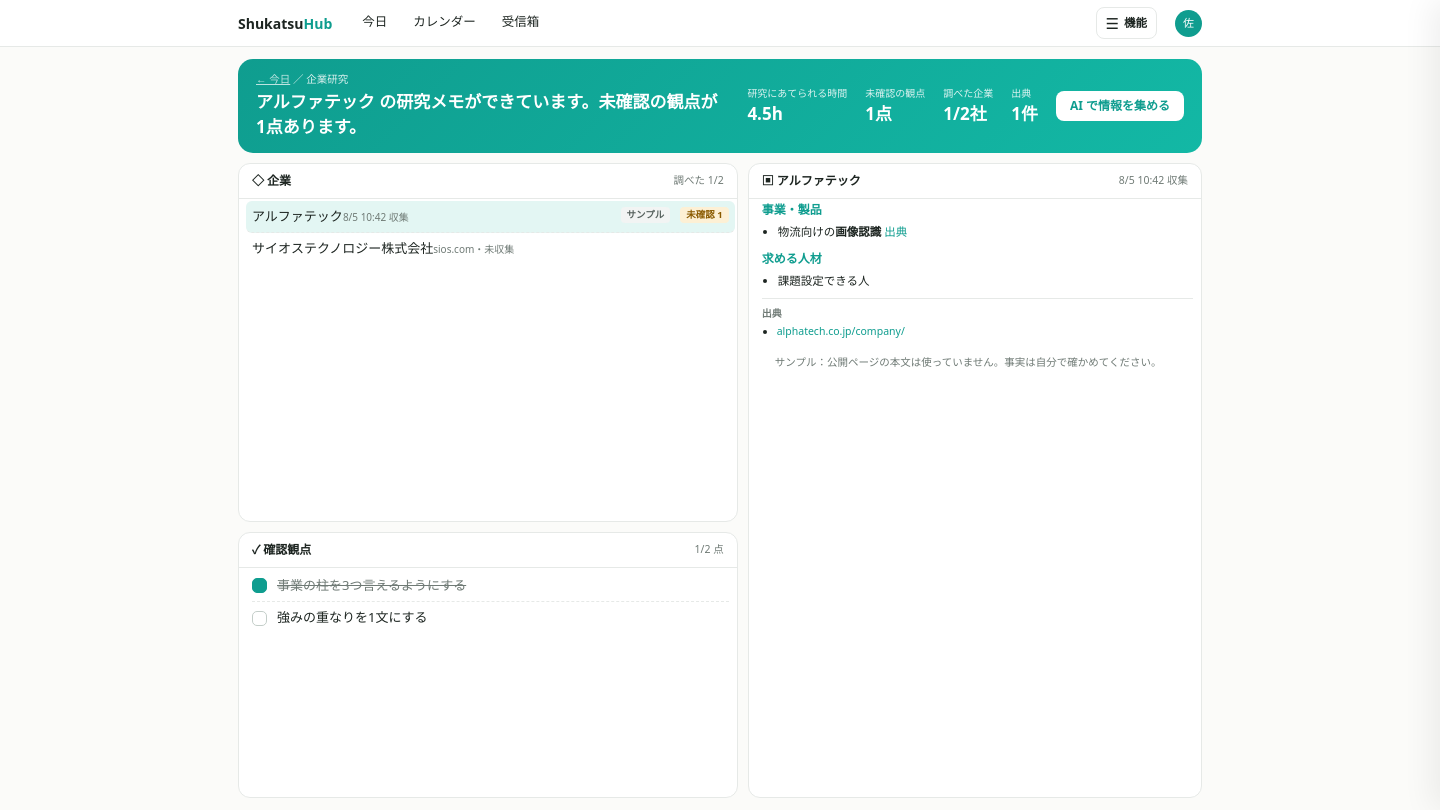
確認観点 › チェックを付けると PATCH され、残り点数が減る
Click the button named "強みの重なりを1文にする を確認済みにする" at [260, 618], box left=252, top=611, right=267, bottom=626
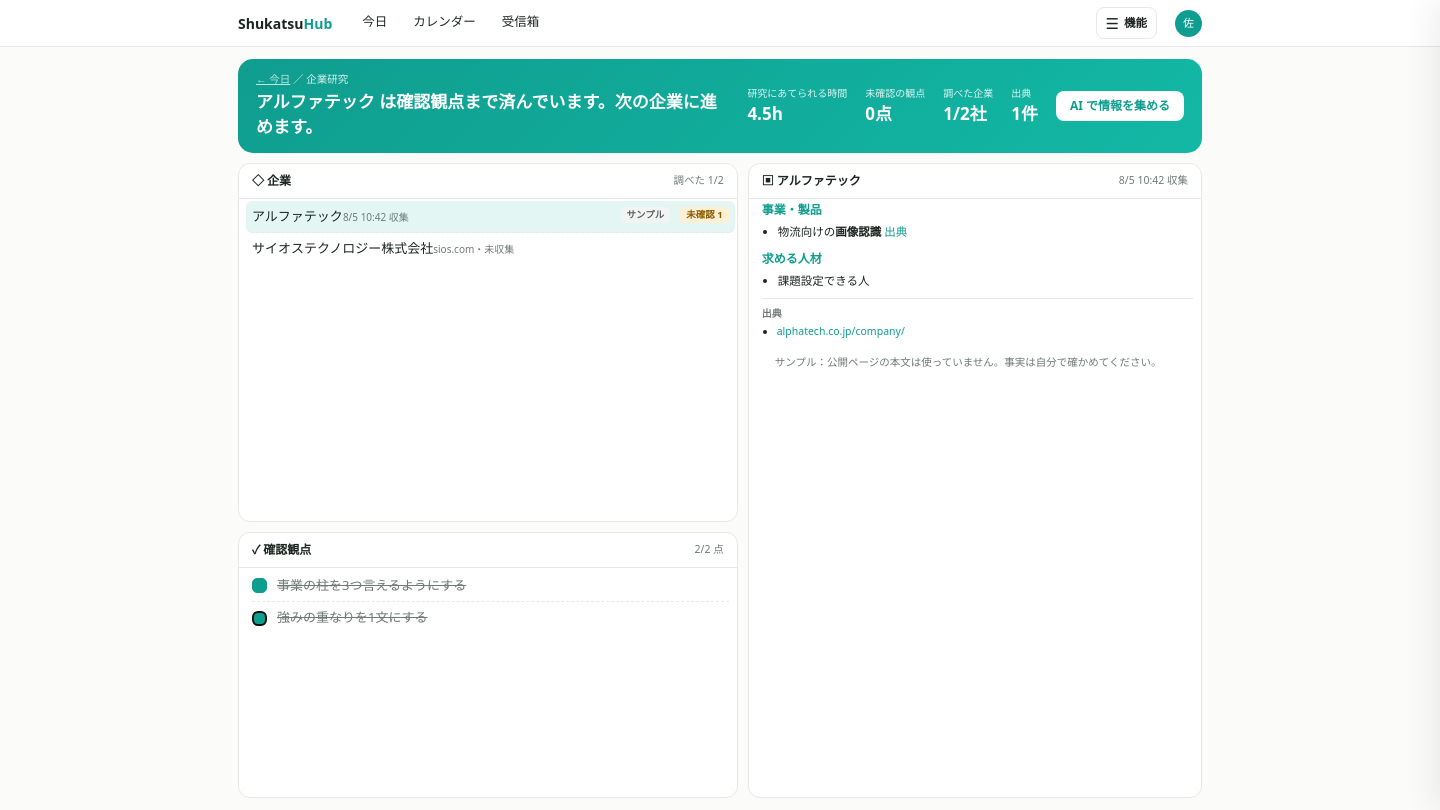
Expected: the text "2/2 点" is shown, left=694, top=542, right=724, bottom=558
